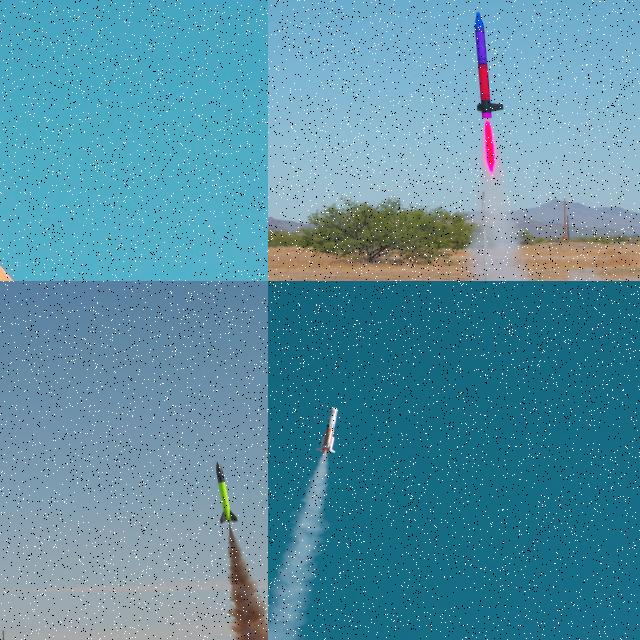Rocket: (0, 36, 18, 281), (474, 11, 504, 120), (216, 460, 238, 524), (318, 407, 340, 455)
